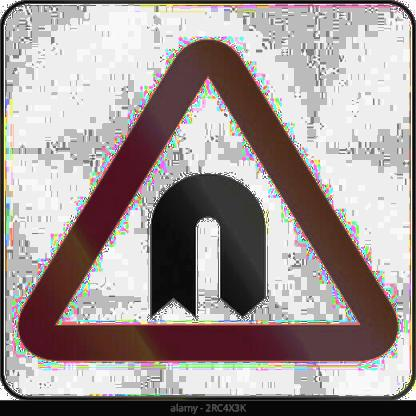U-turn: (22, 25, 402, 366)
